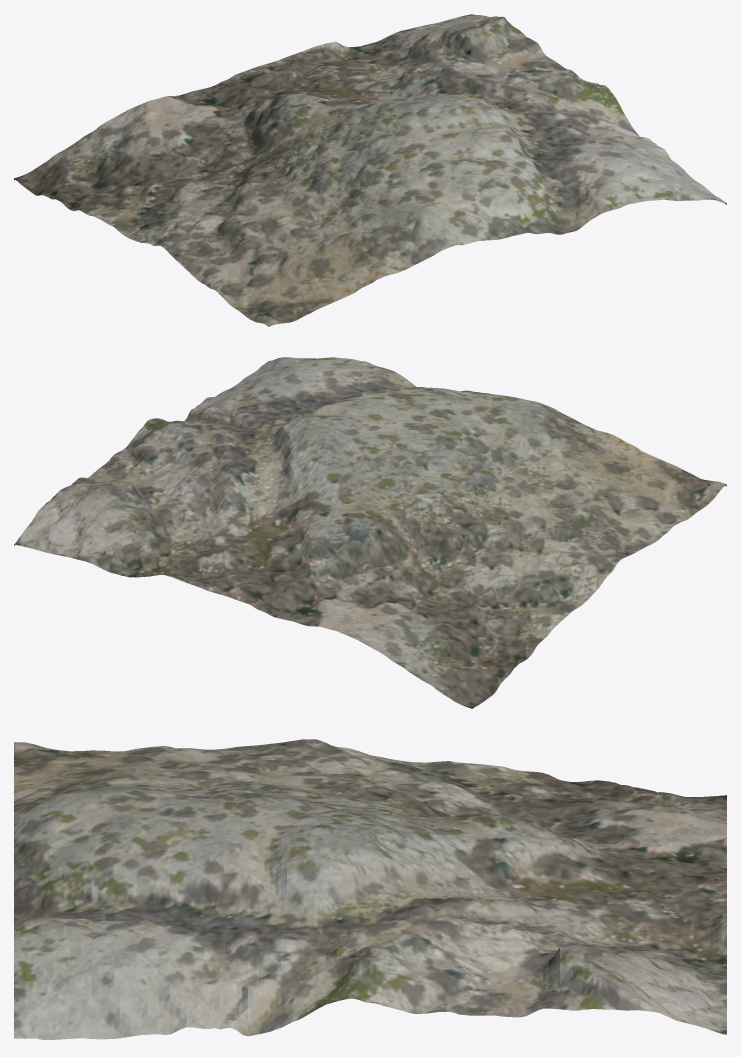
The picture shows the model from 3 angles, top to bottom: view 1: azimuth 30°, elevation 25°; view 2: azimuth 150°, elevation 25°; view 3: azimuth 270°, elevation 25°; orthographic projection. The views are drawn at different scales.
Size of the model in its own units: 250 by 58.38 by 241.
Materials: 1 (1 with a texture image).
